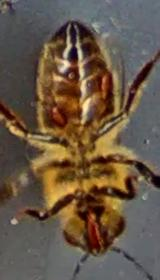varroa_mite: (89, 62, 118, 106), (42, 96, 72, 127)
